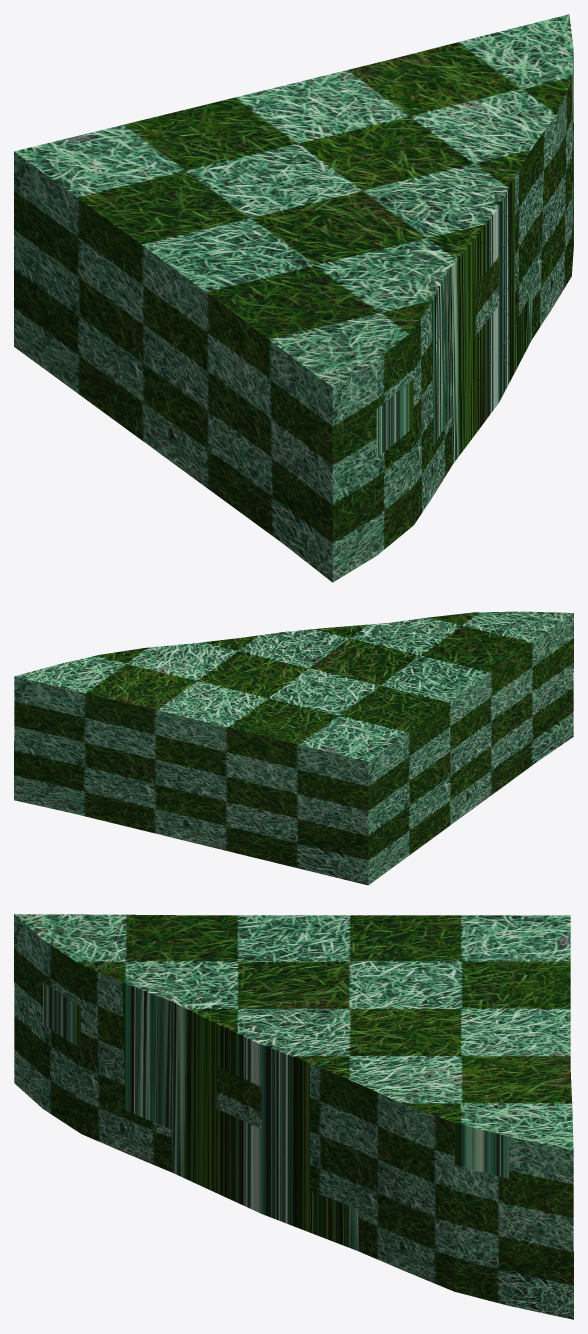
Rendered from Floor2Slope.fbx.
3 views of the same model, one above another, from view 1: azimuth 30°, elevation 25°; view 2: azimuth 150°, elevation 25°; view 3: azimuth 270°, elevation 25° (orthographic). The views are drawn at different scales.
Visible parts, largest first — view 1: Floor.002Slope; view 2: Floor.002Slope; view 3: Floor.002Slope.
Part boxes in pixels (x1=…): Floor.002Slope: x1=14, y1=14, x2=573, y2=582; Floor.002Slope: x1=14, y1=611, x2=573, y2=885; Floor.002Slope: x1=14, y1=914, x2=573, y2=1319.
Size of the model in its own units: 150 by 50 by 150.
